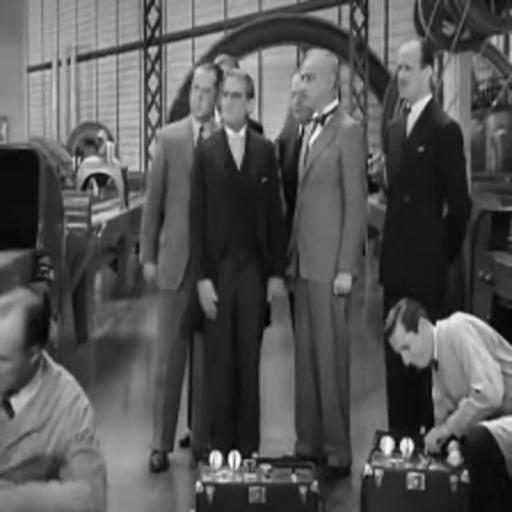nao-violencia: (124, 19, 483, 481)
